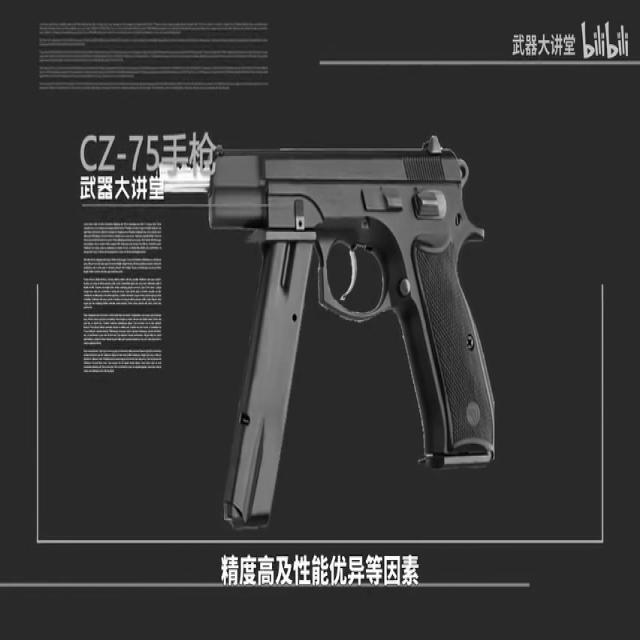Hand-Gun: (153, 131, 503, 534)
